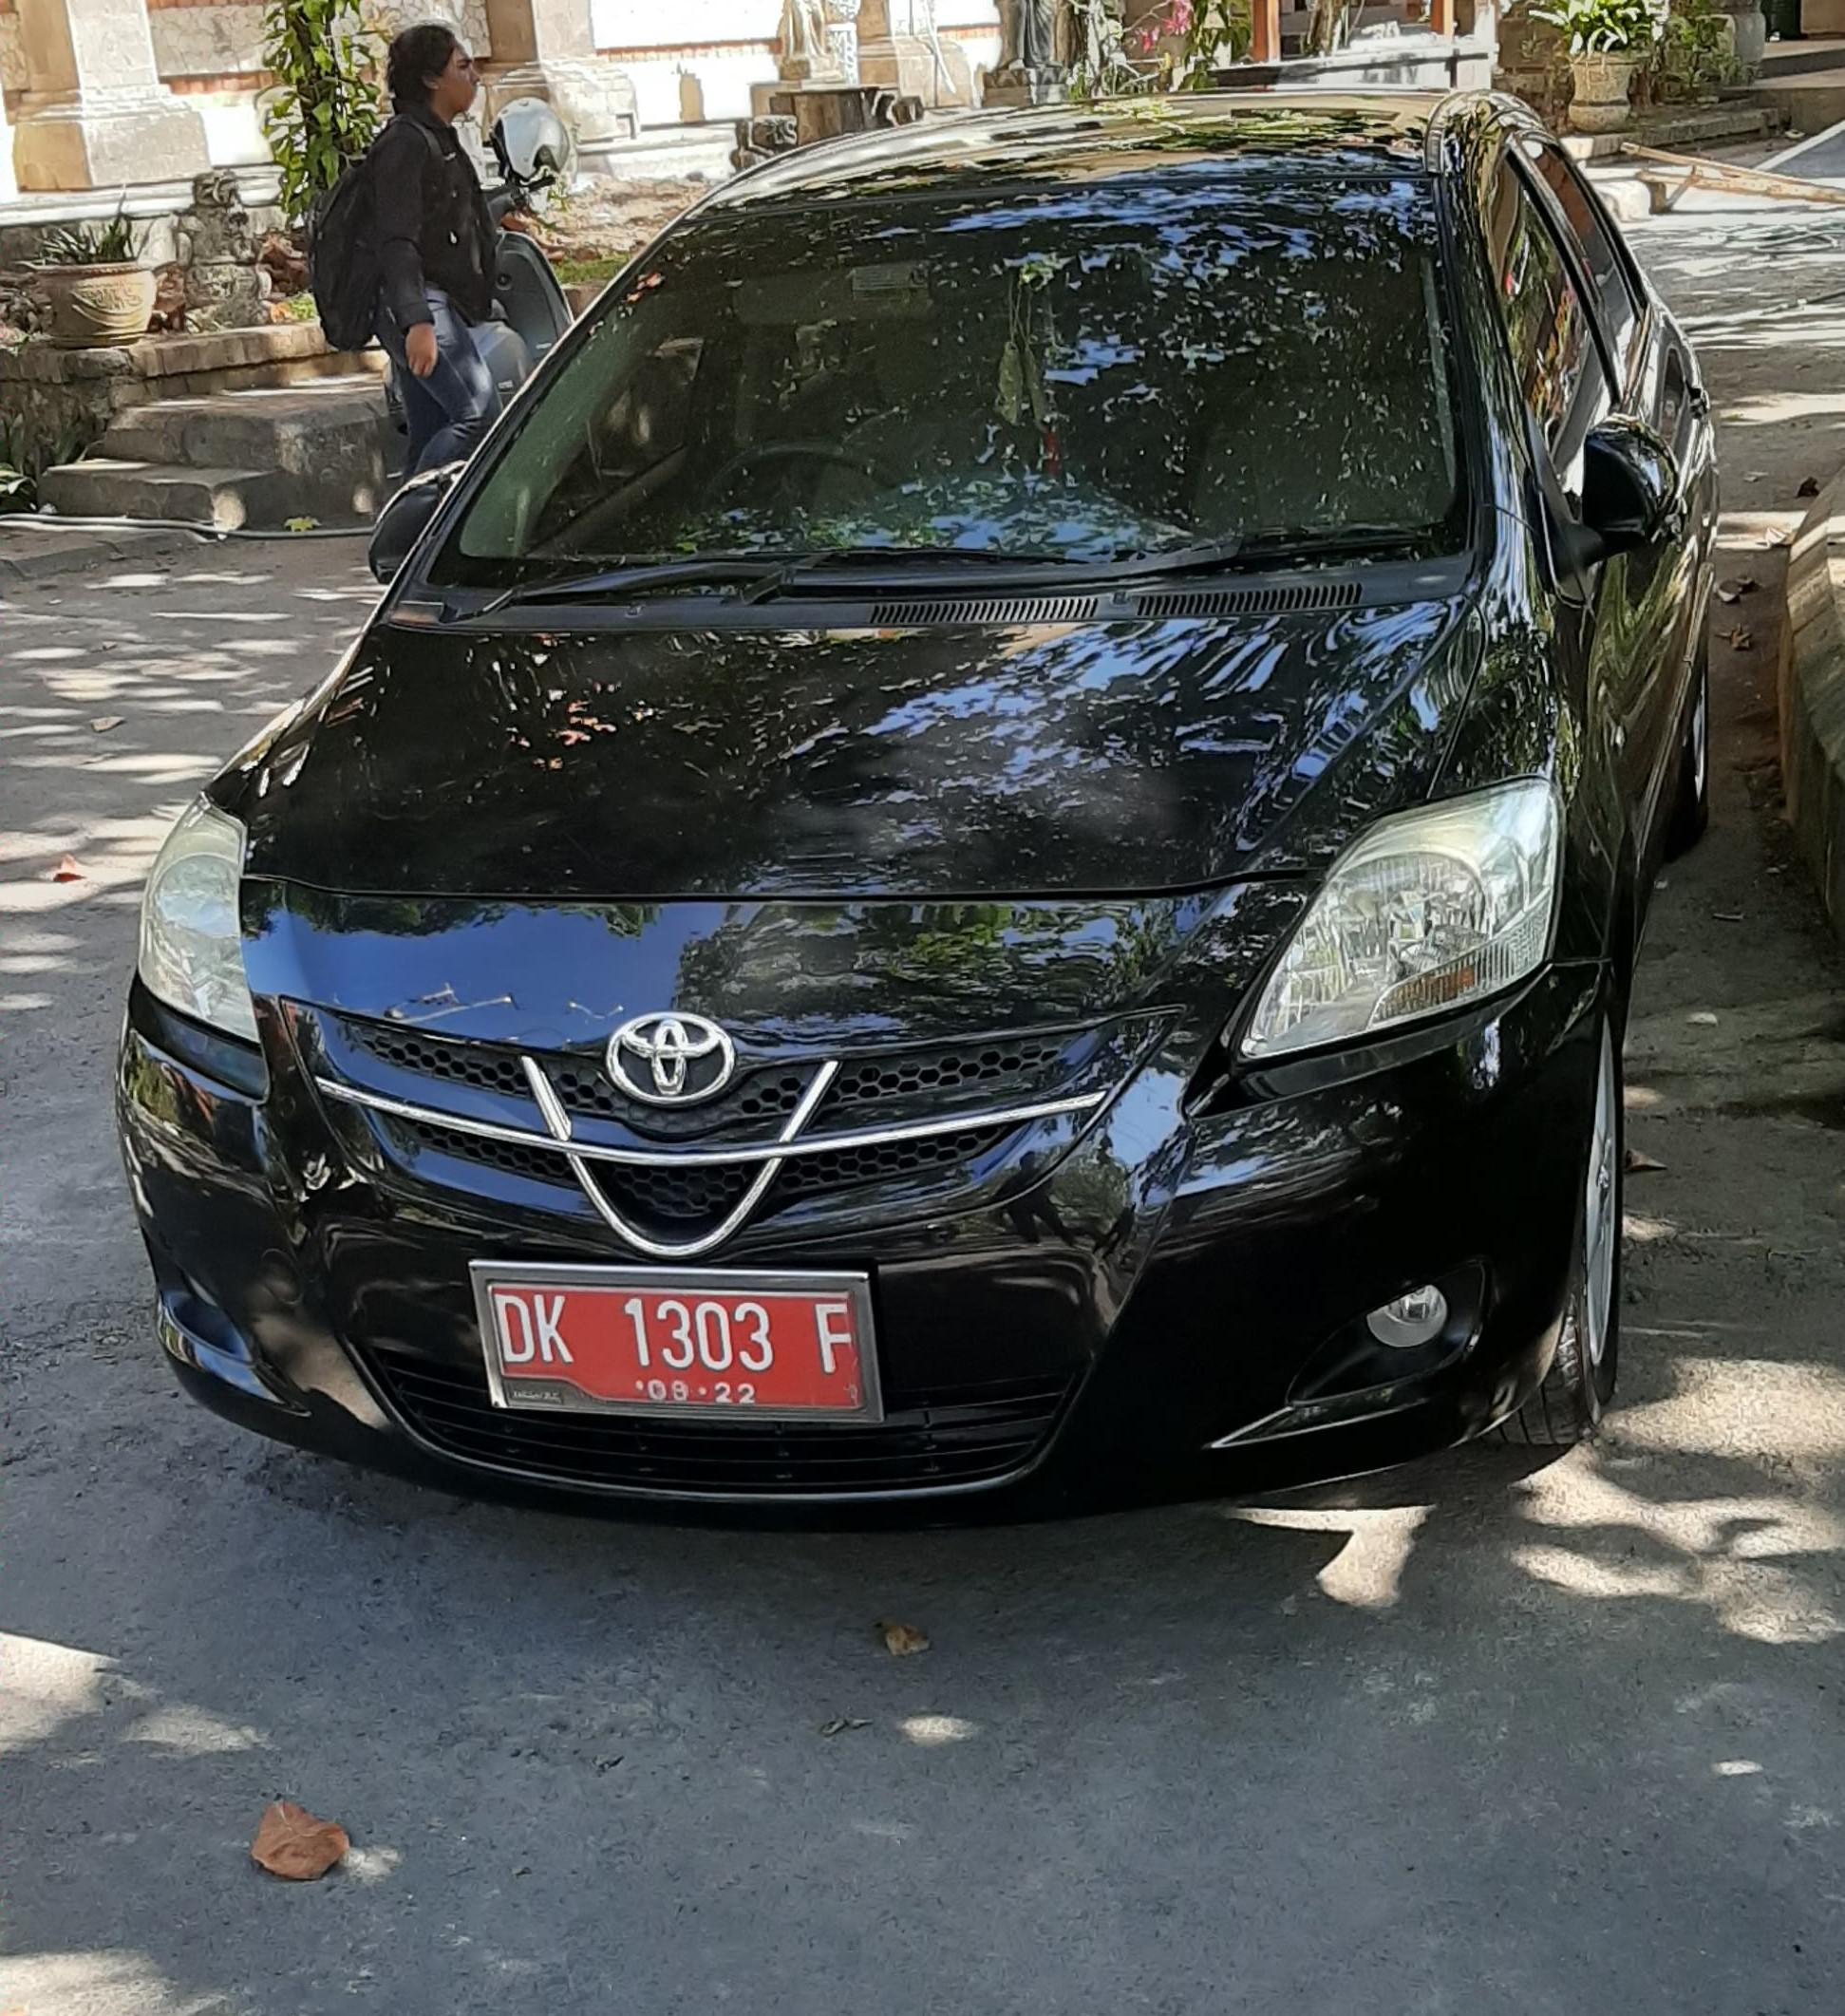plate: (487, 1253, 867, 1434)
